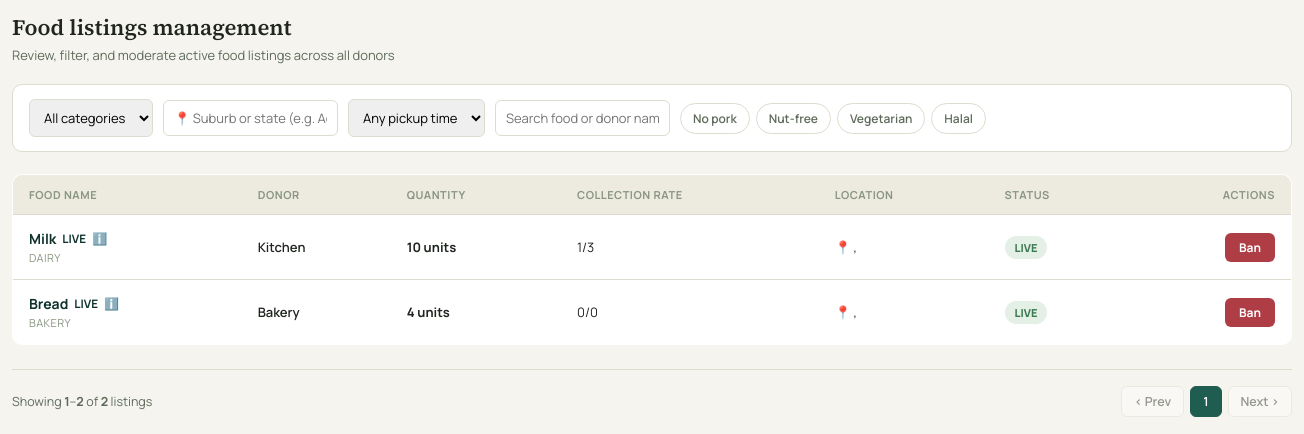
Test: renders listing collection rates from all API pages and preserves them when filtering
This screenshot has width=1304, height=434.
Expected: the row "Milk LIVE ℹ️ Dairy Kitchen 10 units 1/3 📍 , LIVE Ban" is shown, [12,214,1292,280]
Expected: the row "Bread LIVE ℹ️ Bakery Bakery 4 units 0/0 📍 , LIVE Ban" is shown, [12,280,1292,344]
Select "Dairy" in the 1st dropdown. click: (91, 118)
box: [29,99,153,137]
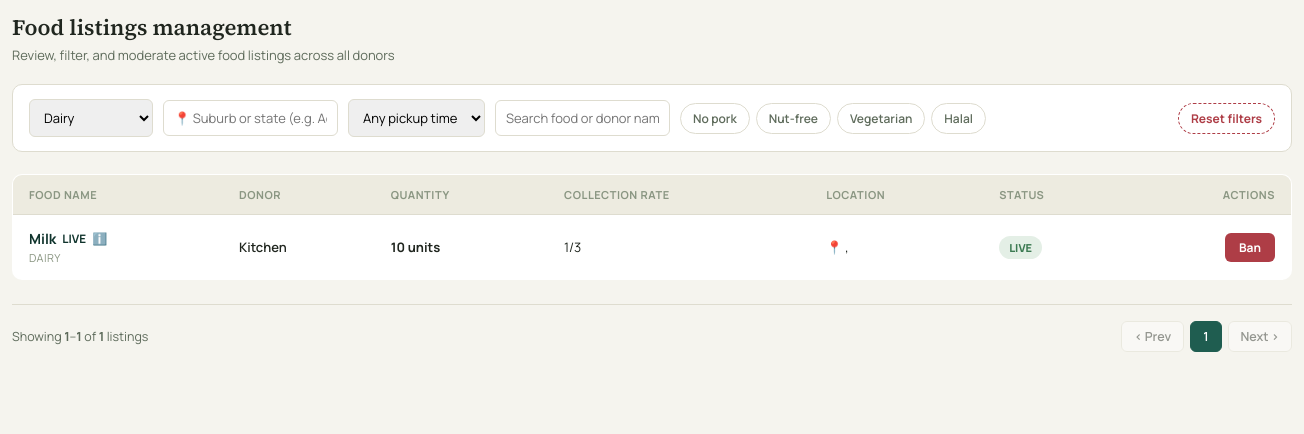
Expected: the table shows "1/3", [564,238,581,256]
Result: the text "Bread" is gone
